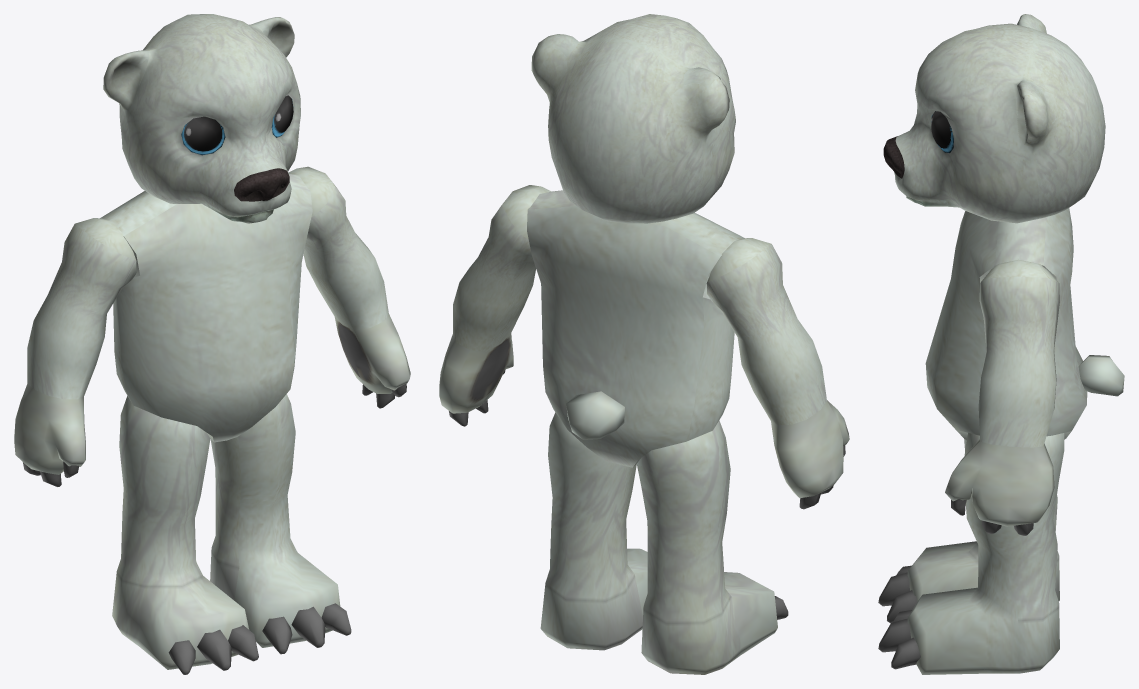
File: bundle_195_polar_bear.obj
3 views of the same model, side by side, from view 1: azimuth 30°, elevation 25°; view 2: azimuth 150°, elevation 25°; view 3: azimuth 270°, elevation 25° (orthographic). The views are drawn at different scales.
Parts seen in each view (by area): view 1: Bundle195polarbear5, Handle1, Bundle195polarbear1, Bundle195polarbear2, Bundle195polarbear3, Bundle195polarbear4; view 2: Bundle195polarbear5, Handle1, Bundle195polarbear1, Bundle195polarbear3, Bundle195polarbear2, Bundle195polarbear4; view 3: Handle1, Bundle195polarbear4, Bundle195polarbear2, Bundle195polarbear5, Bundle195polarbear1.
Boxes of the visible parts, x1,y1,x2,y2 form: Bundle195polarbear5: [100, 173, 312, 442]; Handle1: [103, 14, 300, 223]; Bundle195polarbear1: [112, 396, 258, 674]; Bundle195polarbear2: [210, 394, 351, 654]; Bundle195polarbear3: [14, 218, 136, 486]; Bundle195polarbear4: [288, 166, 410, 408]; Bundle195polarbear5: [527, 190, 744, 467]; Handle1: [531, 14, 735, 223]; Bundle195polarbear1: [636, 420, 788, 674]; Bundle195polarbear3: [706, 238, 849, 509]; Bundle195polarbear2: [540, 412, 647, 650]; Bundle195polarbear4: [439, 185, 551, 426]; Handle1: [883, 14, 1105, 223]; Bundle195polarbear4: [945, 259, 1059, 535]; Bundle195polarbear2: [878, 433, 1064, 674]; Bundle195polarbear5: [925, 208, 1124, 439]; Bundle195polarbear1: [878, 439, 1059, 623].
Bounding box in the file's own units: 3.52 × 5.38 × 2.
